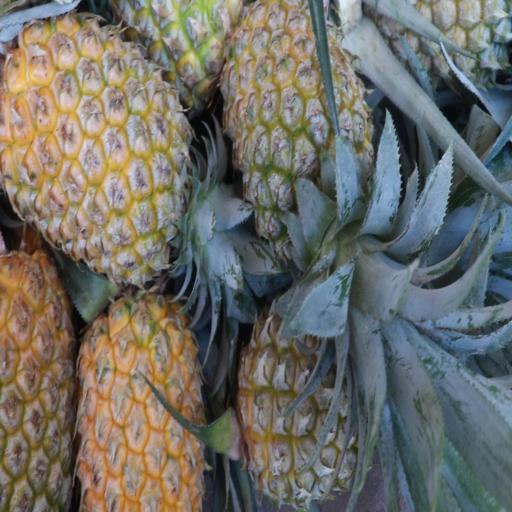------------------------------: (224, 4, 367, 242), (242, 301, 372, 504)
Pineapple - v8 v1: (3, 18, 187, 260), (80, 294, 205, 512), (0, 259, 77, 507)
